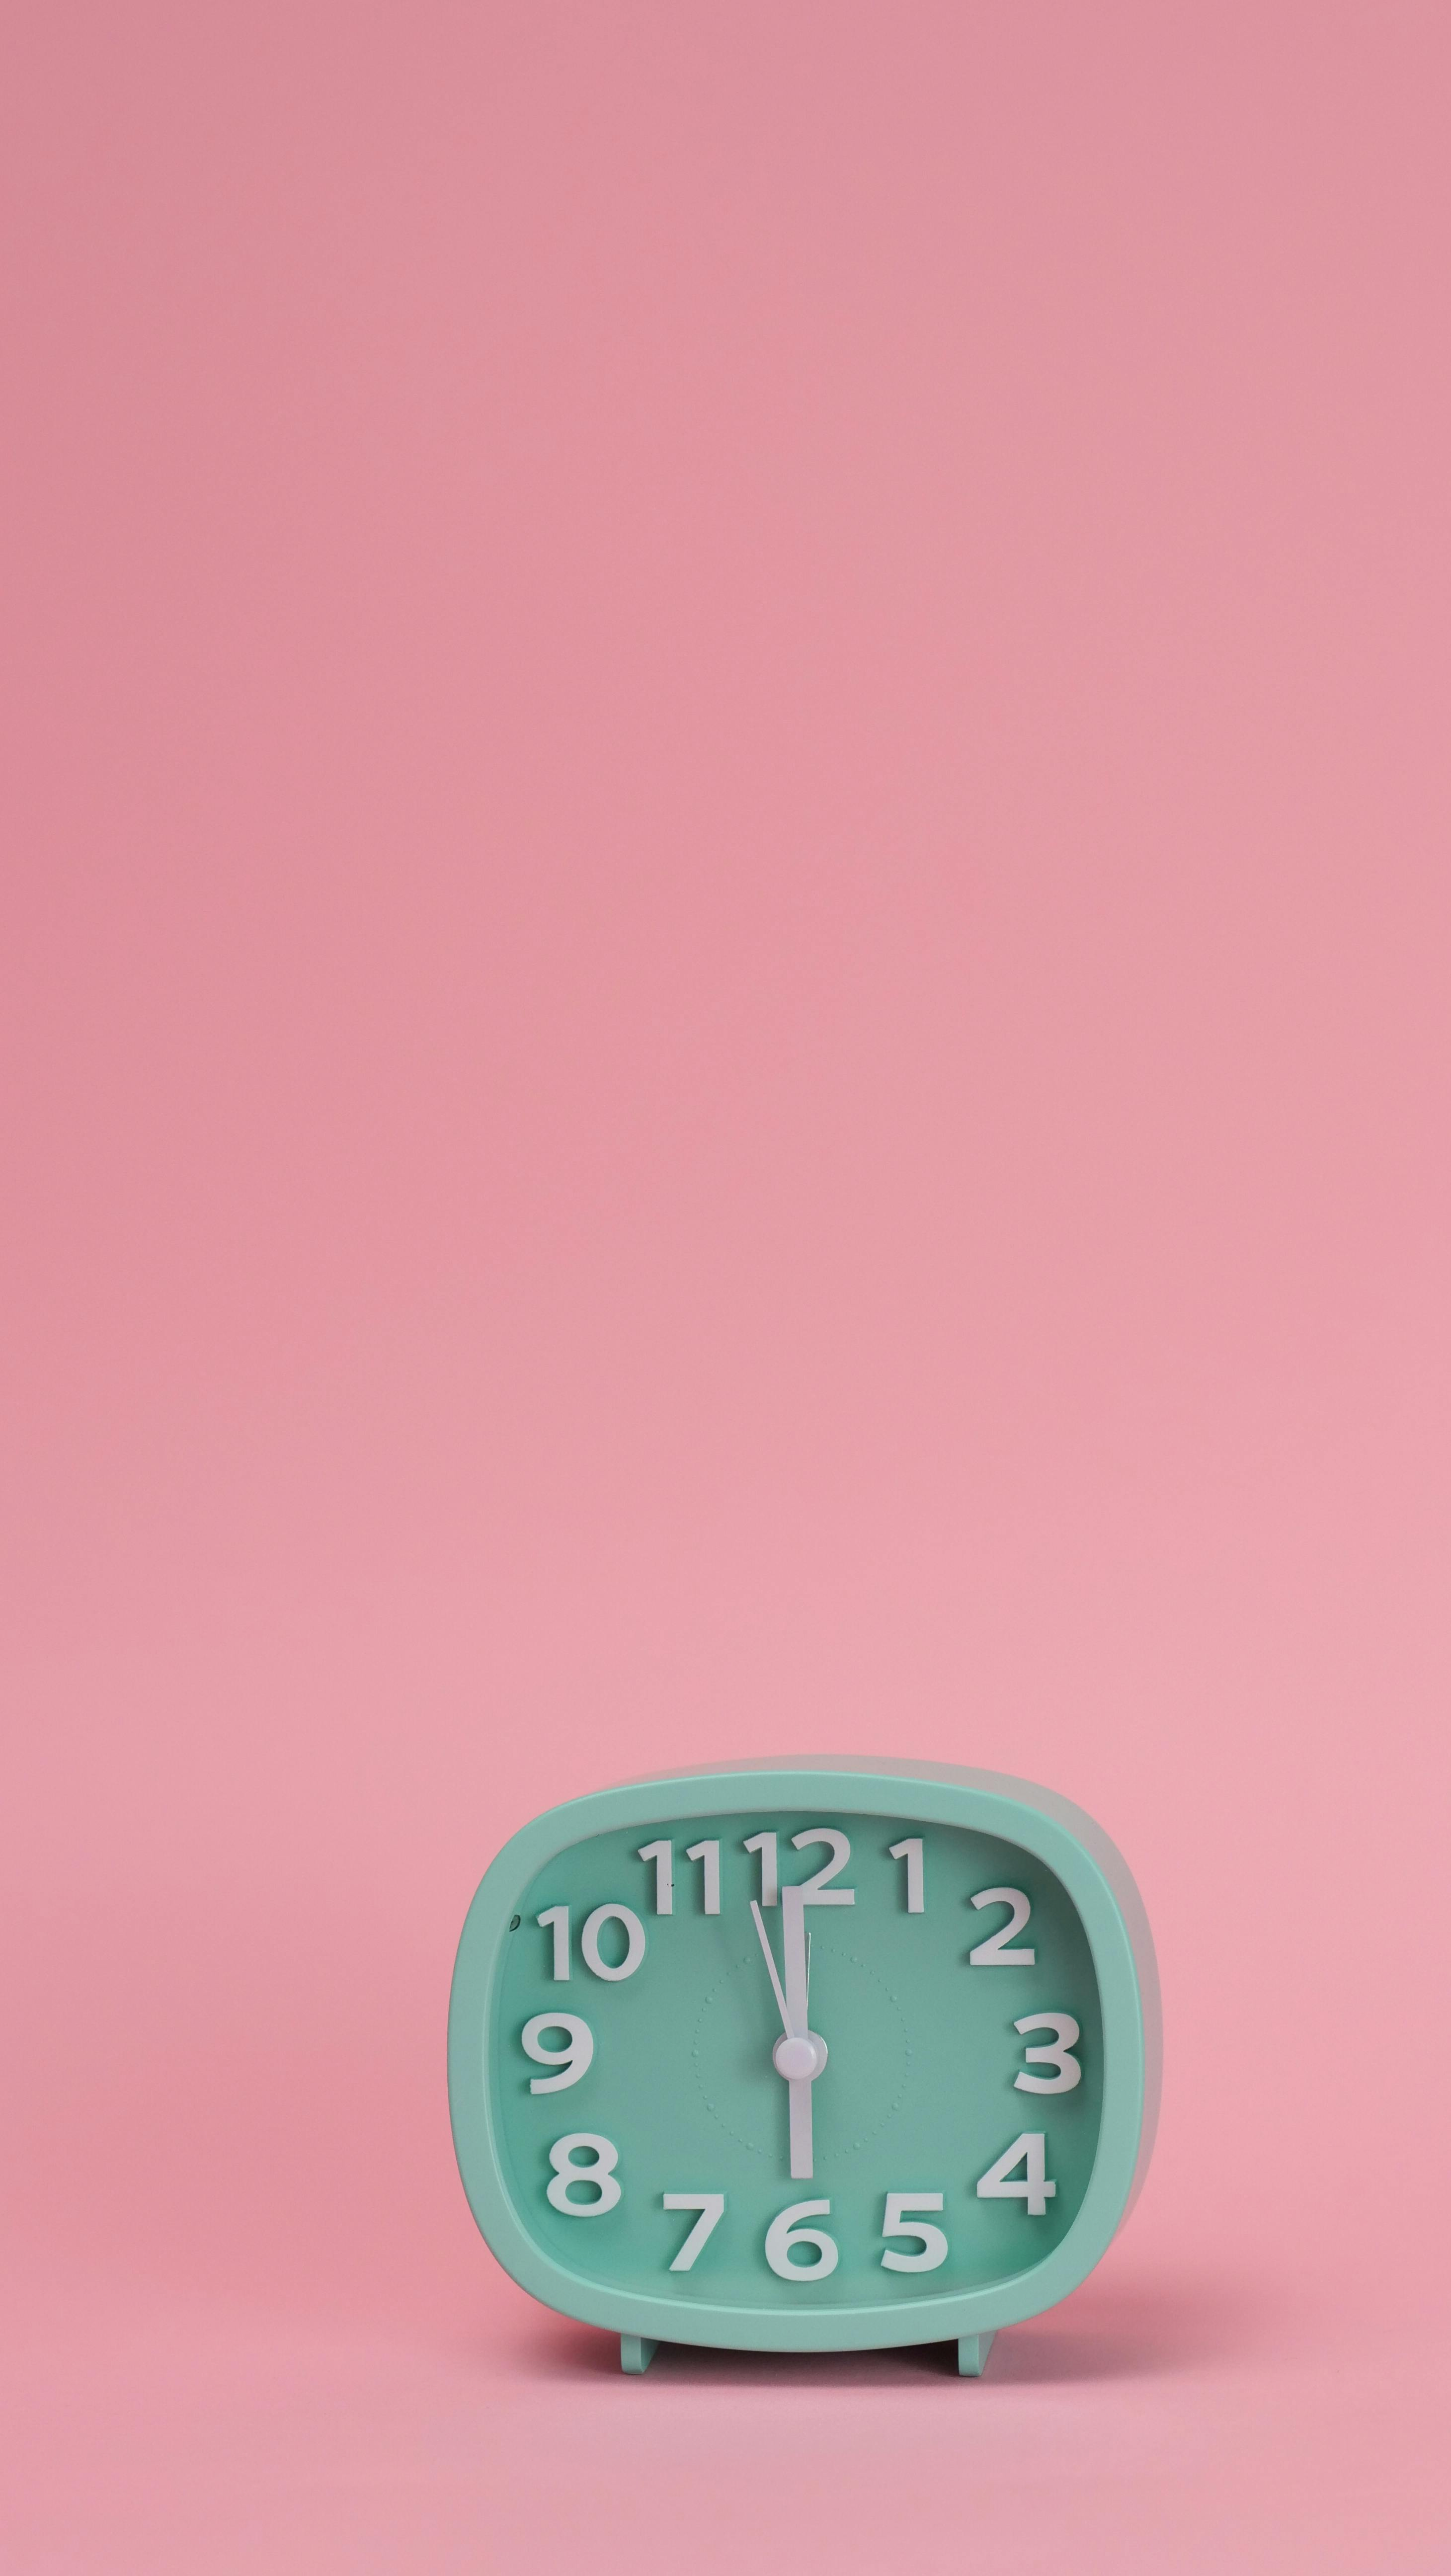clock: (264, 1658, 1232, 2438)
